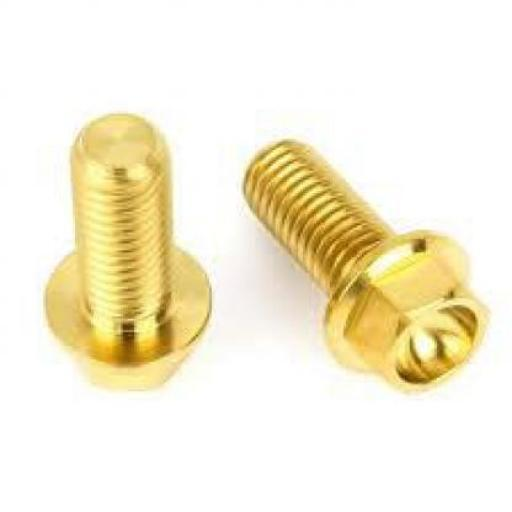Bolt: (240, 137, 491, 394), (43, 110, 213, 393)
